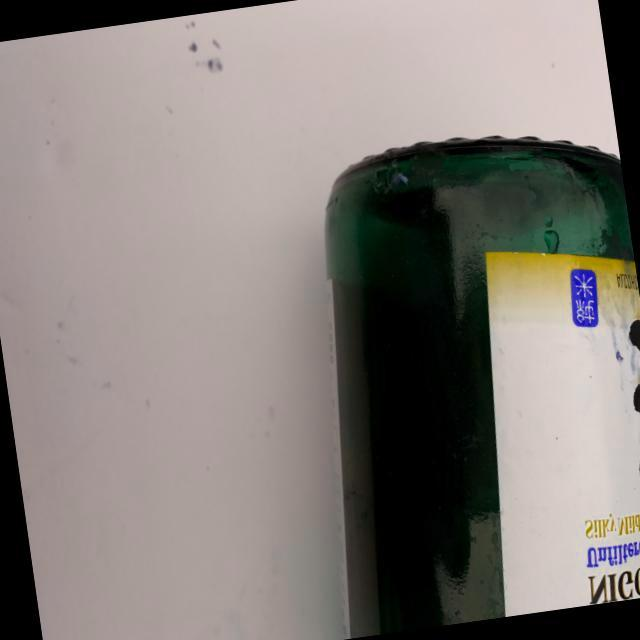glass: (280, 107, 640, 639)
